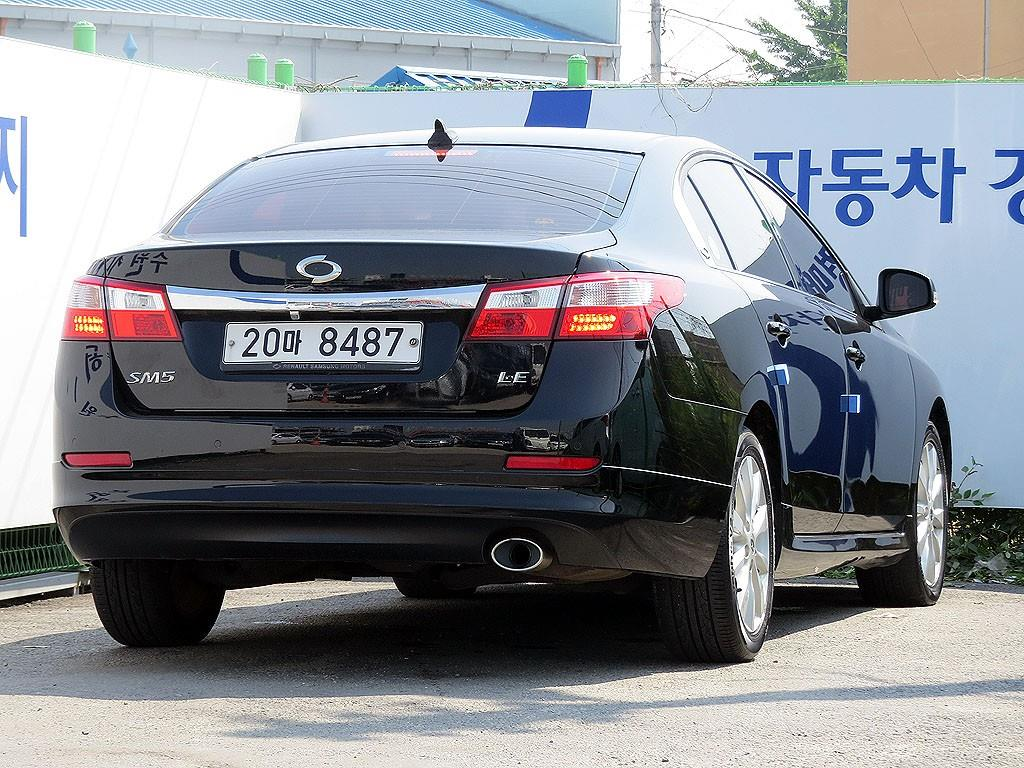plate: (223, 323, 423, 363)
